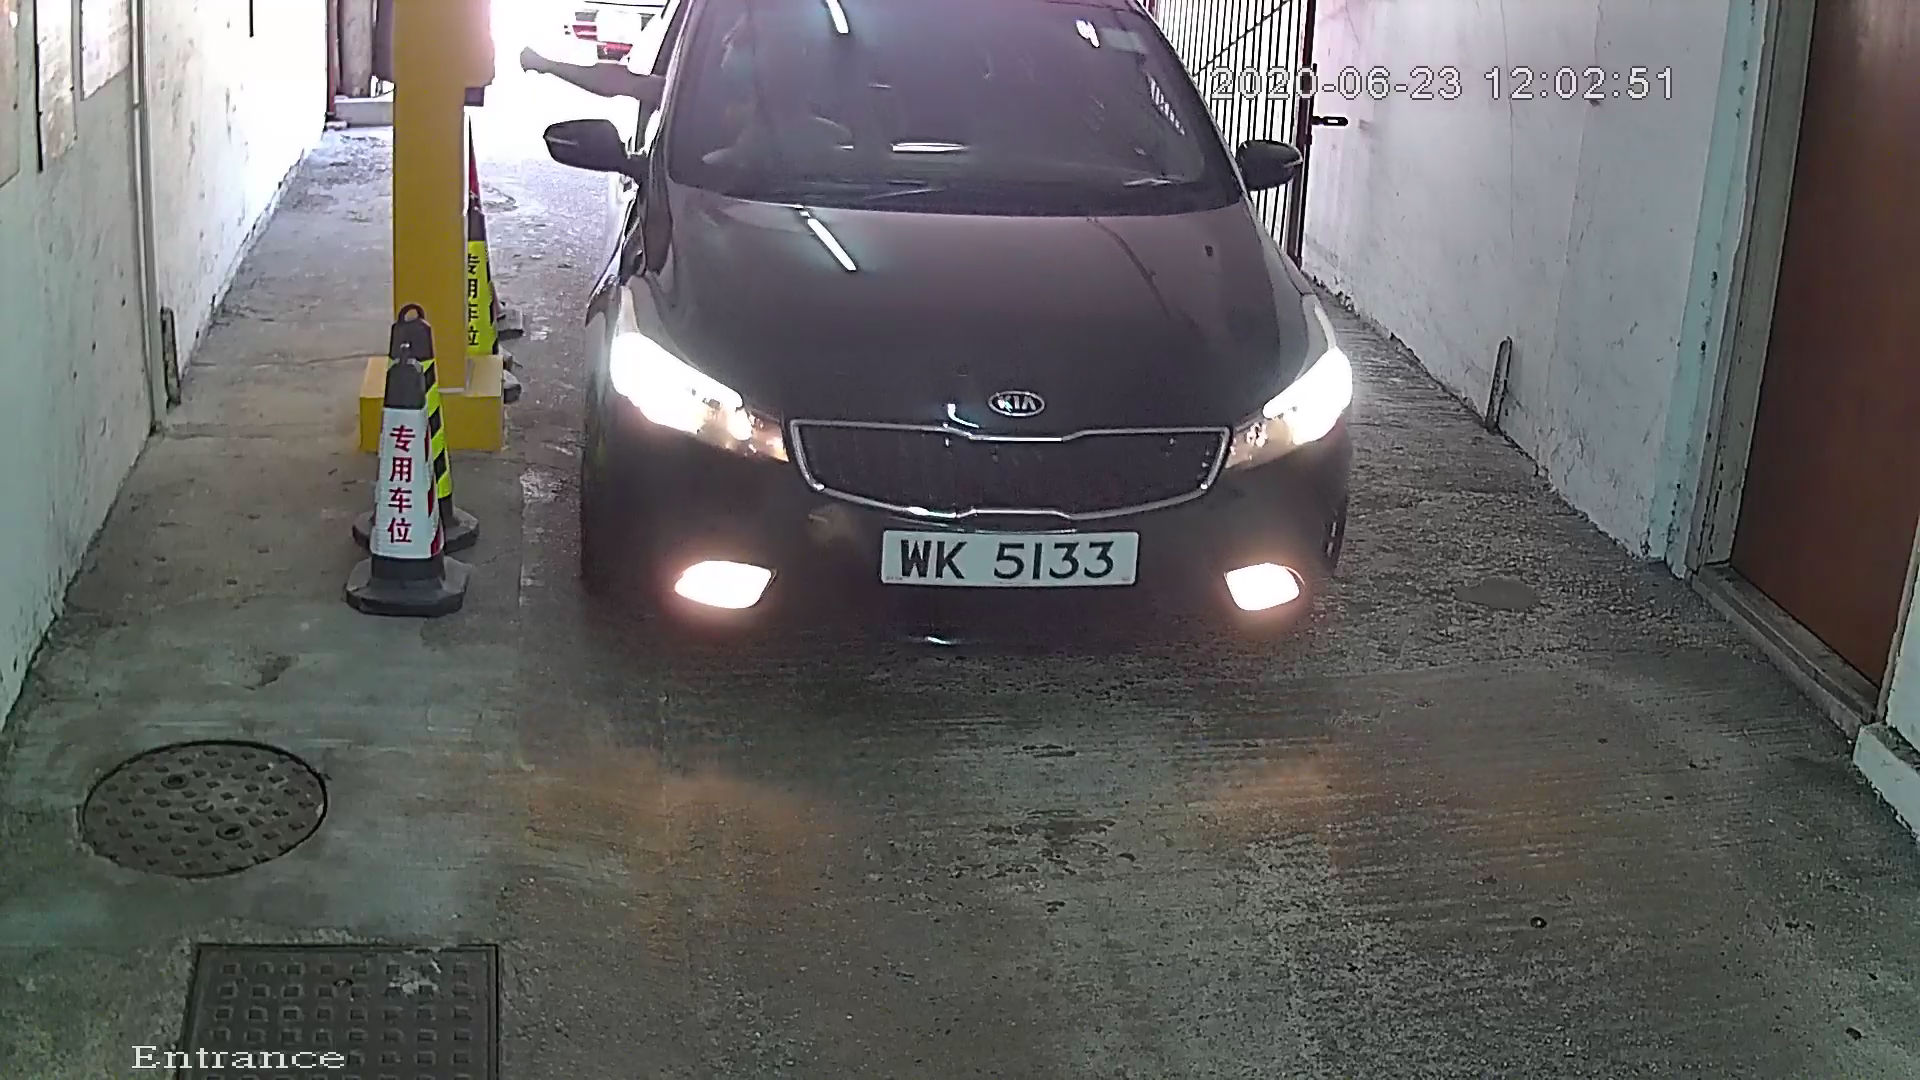privatecar: (556, 3, 1373, 738)
